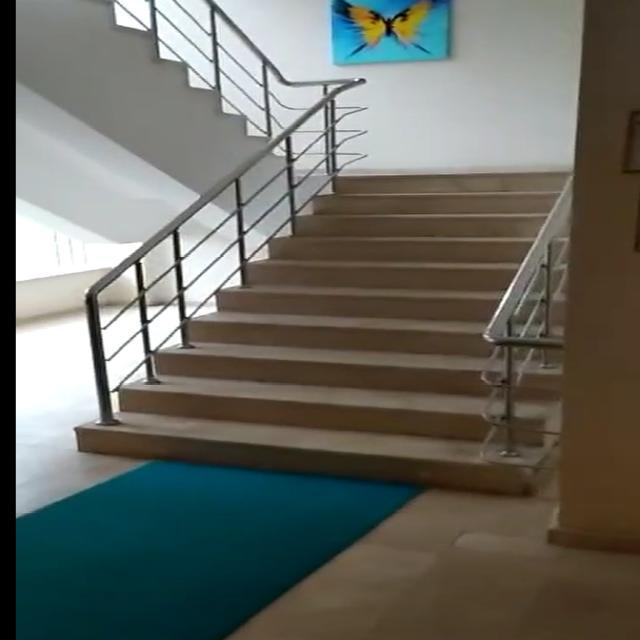stair: (84, 163, 585, 488)
